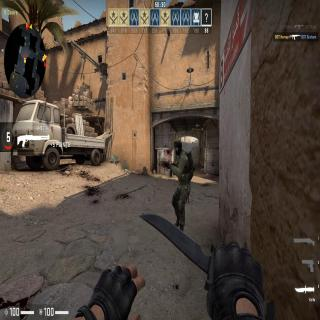CT-Body: (164, 139, 198, 233), (174, 139, 183, 155)
